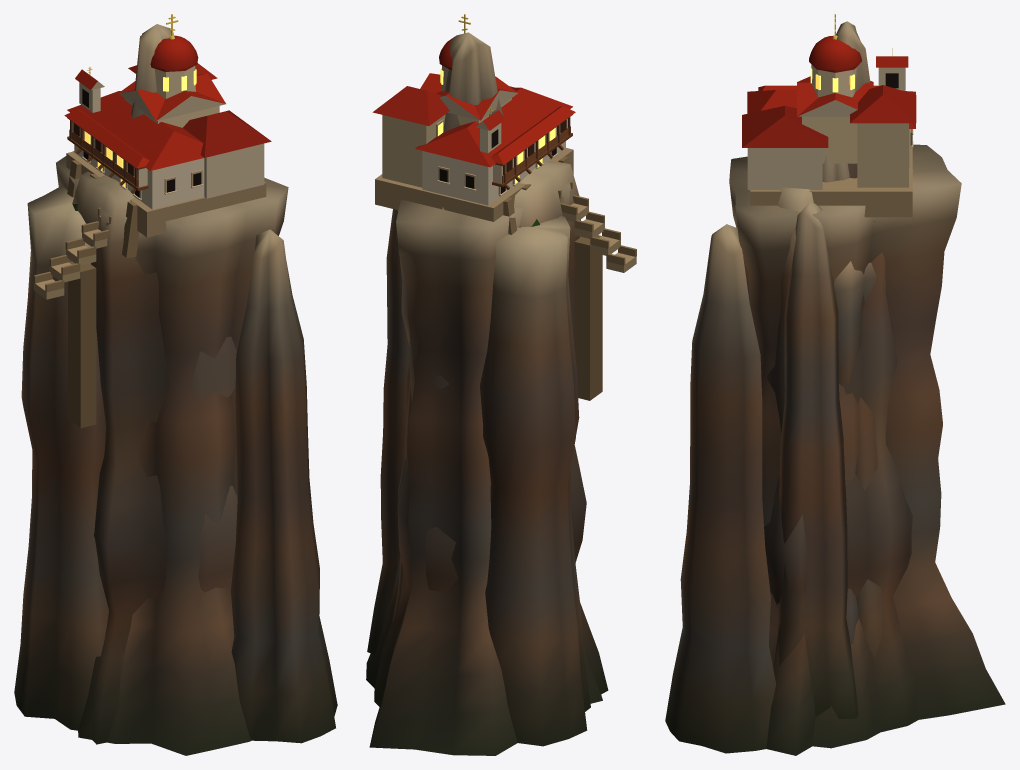
Rendered from venue_meteora.glb.
3 views of the same model, side by side, from view 1: azimuth 30°, elevation 25°; view 2: azimuth 150°, elevation 25°; view 3: azimuth 270°, elevation 25° (orthographic).
Parts seen in each view (by area): view 1: MonasteryPinnacle, RockMesa, RockNeedle; view 2: MonasteryPinnacle, RockMesa, NorthCliffSkete, RockNeedle; view 3: MonasteryPinnacle, NorthCliffSkete, RockMesa, RockNeedle.
Part boxes in pixels (<box>): MonasteryPinnacle: <box>33,14,337,755</box>; RockMesa: <box>14,171,237,744</box>; RockNeedle: <box>131,24,173,118</box>; MonasteryPinnacle: <box>366,14,636,755</box>; RockMesa: <box>374,161,608,746</box>; NorthCliffSkete: <box>367,209,409,654</box>; RockNeedle: <box>392,32,503,623</box>; MonasteryPinnacle: <box>665,14,1005,753</box>; NorthCliffSkete: <box>777,201,876,718</box>; RockMesa: <box>764,169,918,755</box>; RockNeedle: <box>822,21,884,657</box>.
Size of the model in its own units: 24 by 58.59 by 26.42.
